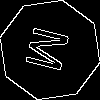M: (25, 25, 79, 76)
